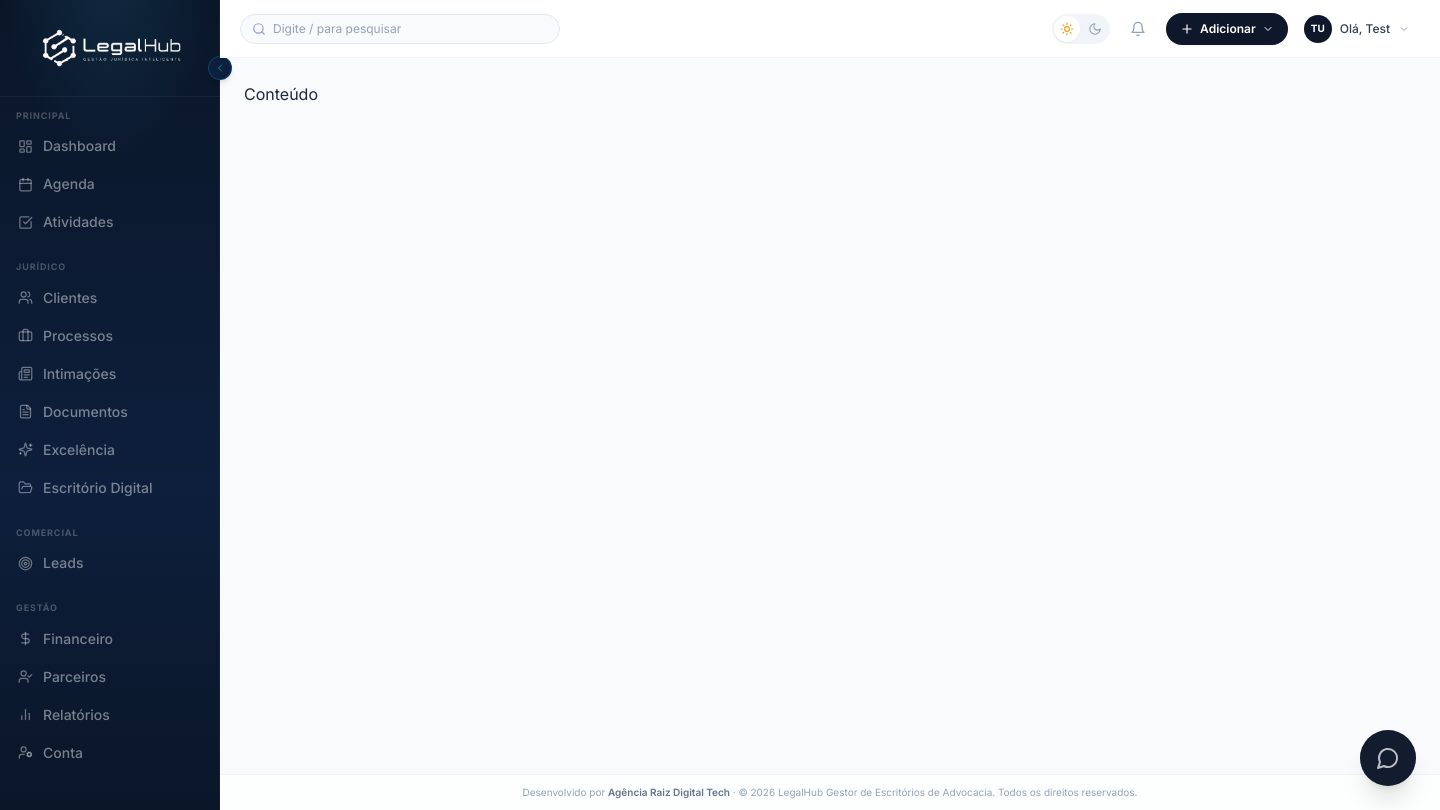
Test: Layout — conteúdo do dropdown de notificações › exibe os títulos das notificações
Click the button titled "Notificações" at (1138, 28), box [1122,12,1154,44]
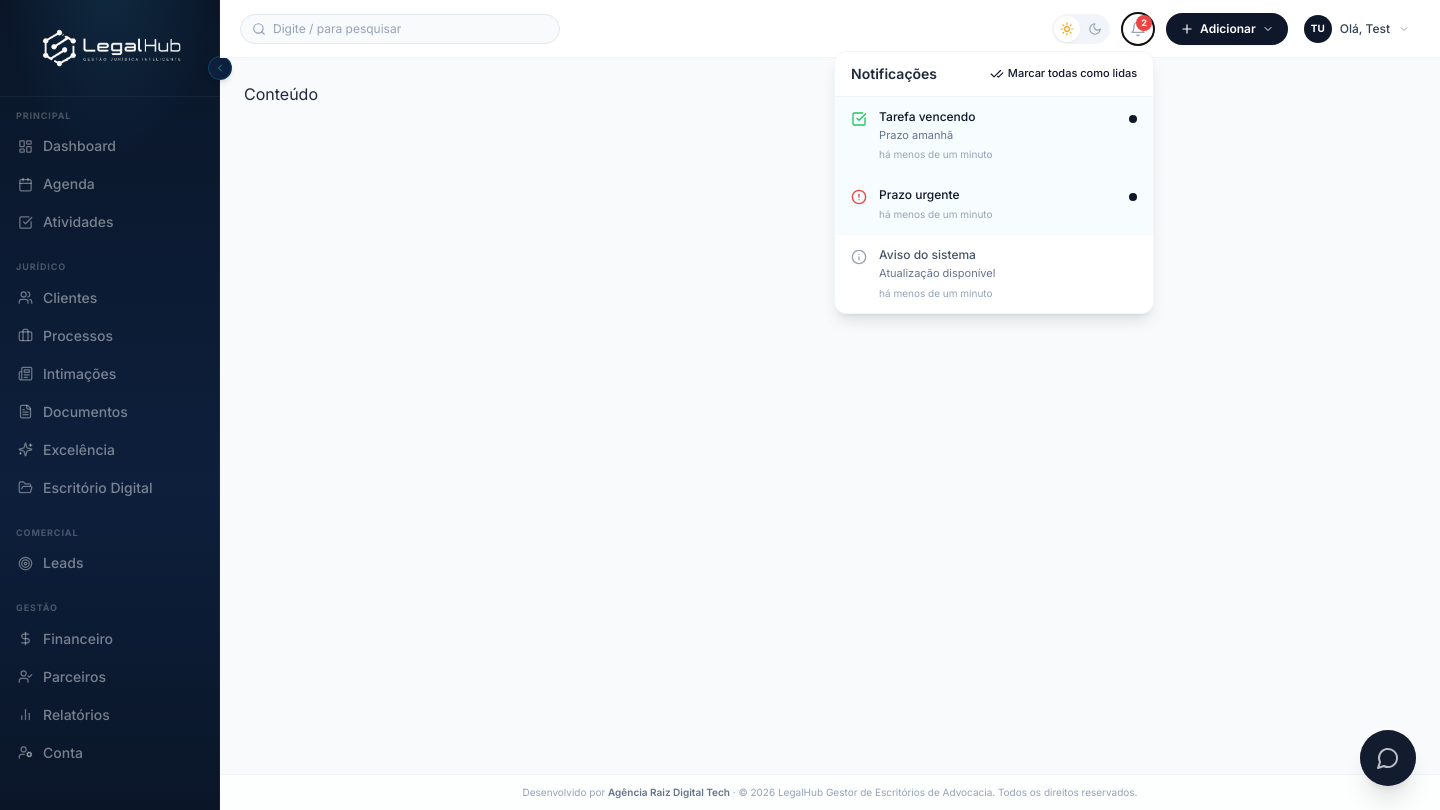
Result: the text "Tarefa vencendo" is shown at [879,108,976,124]
Result: the text "Prazo urgente" is shown at [879,187,960,202]
Result: the text "Aviso do sistema" is shown at [879,247,976,262]
